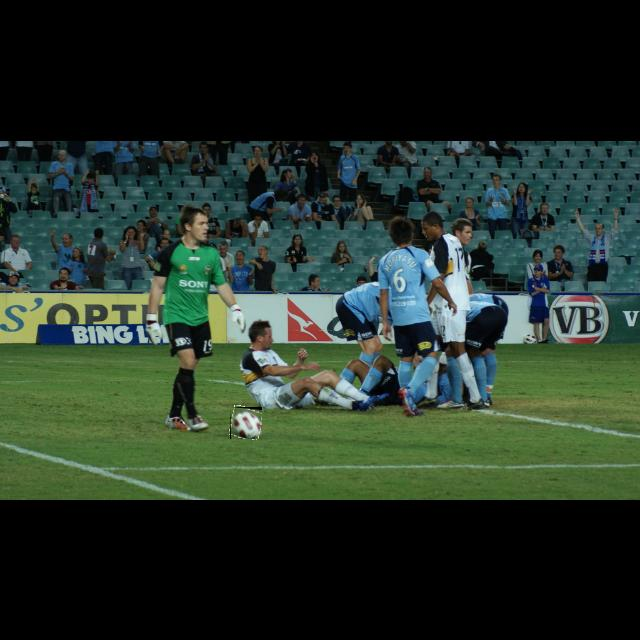Football: (230, 407, 262, 439)
